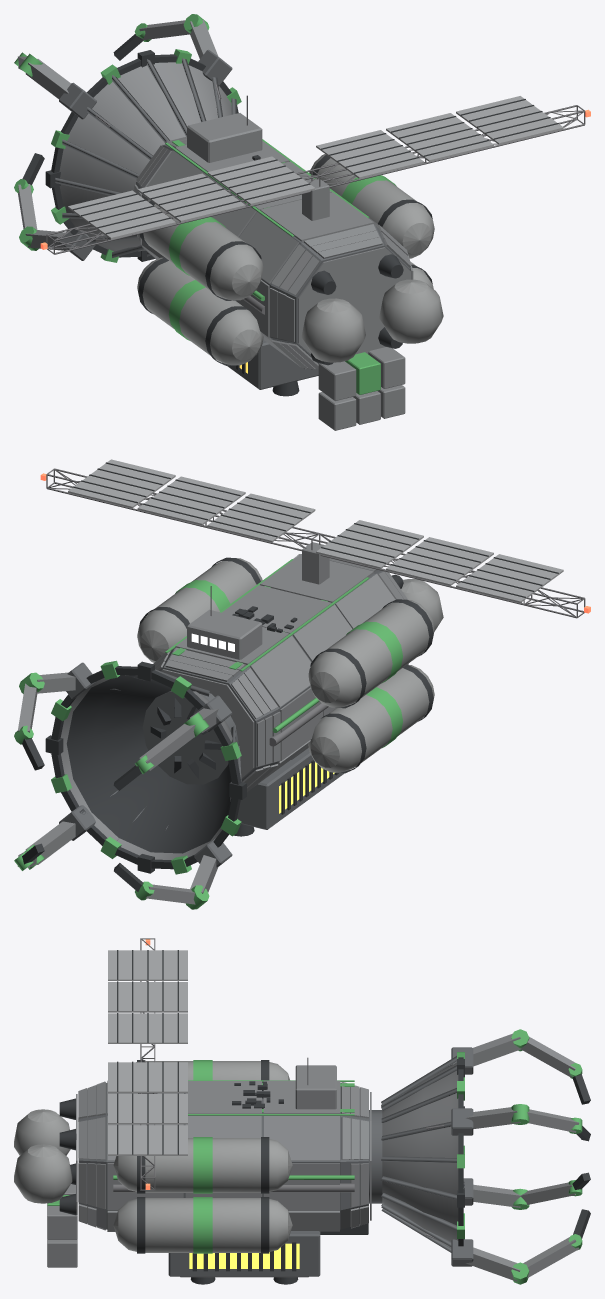
File: ceres.glb
3 renders of one model, top to bottom at view 1: azimuth 30°, elevation 25°; view 2: azimuth 150°, elevation 25°; view 3: azimuth 270°, elevation 25°, orthographic. The views are drawn at different scales.
Visible parts, largest first — view 1: CeresWorks, CeresHullPlates, CeresHull; view 2: CeresWorks, CeresHullPlates, CeresHull; view 3: CeresWorks, CeresHullPlates, CeresHull, CeresMachinery.
Part boxes in pixels (<box>): CeresWorks: <box>14,14,585,430</box>; CeresHullPlates: <box>134,136,413,369</box>; CeresHull: <box>137,144,409,363</box>; CeresWorks: <box>14,459,585,909</box>; CeresHullPlates: <box>153,554,408,792</box>; CeresHull: <box>159,570,383,781</box>; CeresWorks: <box>14,938,590,1284</box>; CeresHullPlates: <box>76,1080,371,1231</box>; CeresHull: <box>79,1082,368,1229</box>; CeresMachinery: <box>232,1081,283,1108</box>.
Bounding box in the file's own units: 42.35 × 18.42 × 41.84.
